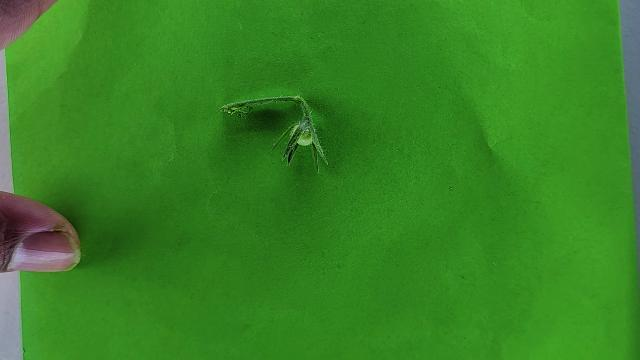Fruit Bud: (273, 111, 328, 175)
